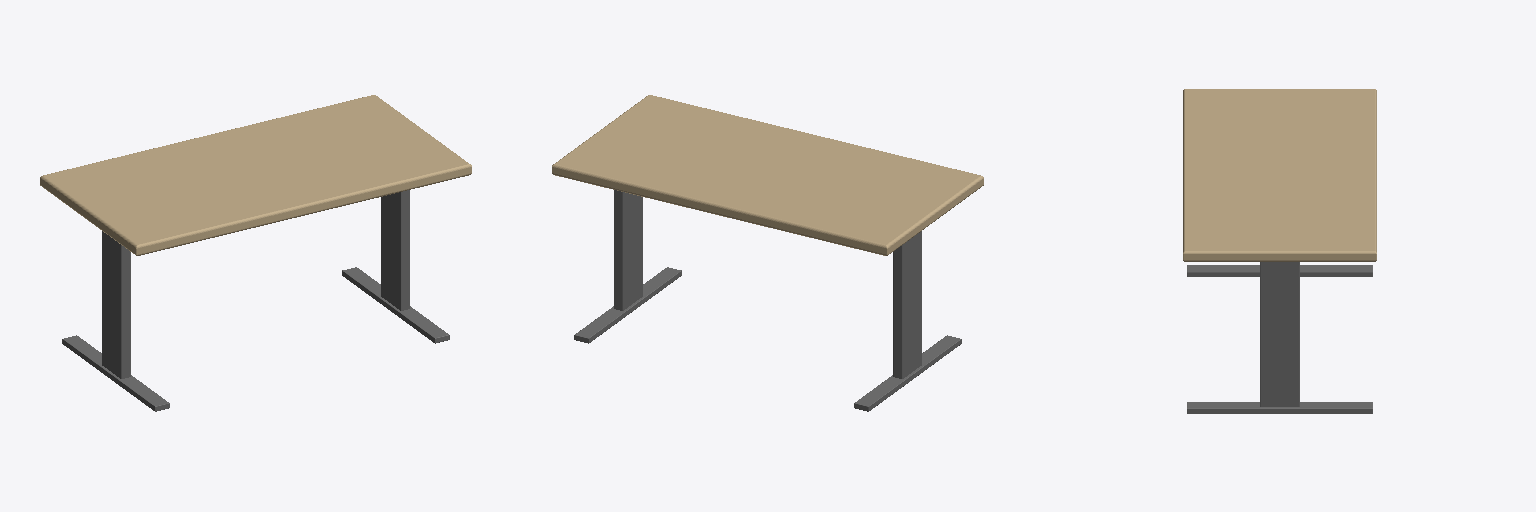
The model's file is WorkTable.obj.
3 renders of one model, left to right at view 1: azimuth 30°, elevation 25°; view 2: azimuth 150°, elevation 25°; view 3: azimuth 270°, elevation 25°, orthographic.
Visible parts, largest first — view 1: 001_Board, 000_Legs; view 2: 001_Board, 000_Legs; view 3: 001_Board, 000_Legs.
Part boxes in pixels (bbox=[...]): 001_Board: bbox=[40, 95, 471, 255]; 000_Legs: bbox=[62, 190, 449, 411]; 001_Board: bbox=[552, 95, 983, 255]; 000_Legs: bbox=[574, 190, 961, 411]; 001_Board: bbox=[1183, 89, 1376, 261]; 000_Legs: bbox=[1187, 262, 1372, 413].
Size of the model in its own units: 100 by 49 by 50.